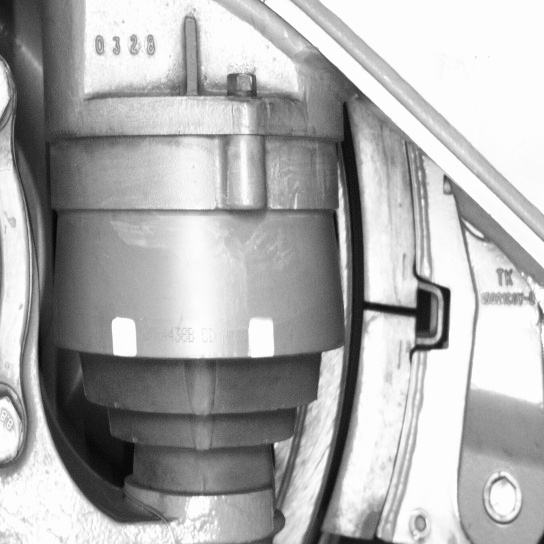KnifeSwitch: (300, 138, 426, 541)
